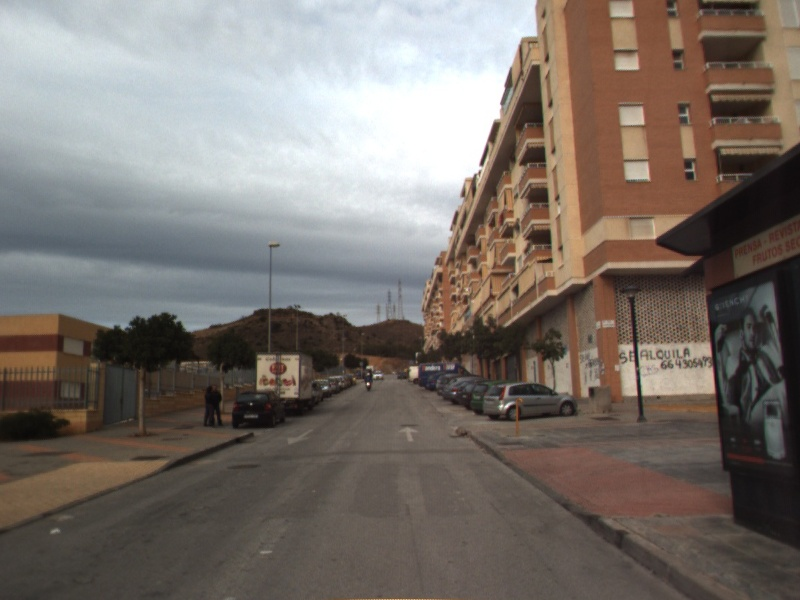STRAIGHT: (396, 424, 422, 443)
